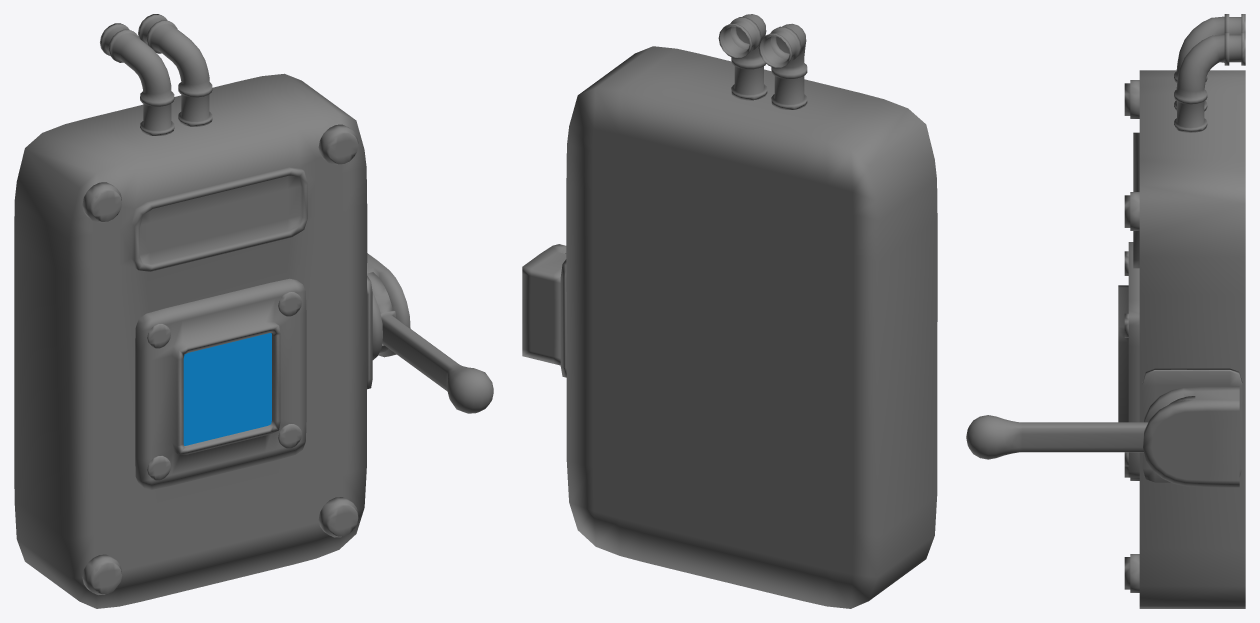
Rendered from food_button.fbx.
The picture shows the model from 3 angles, left to right: view 1: azimuth 30°, elevation 25°; view 2: azimuth 150°, elevation 25°; view 3: azimuth 270°, elevation 25°; orthographic projection. The views are drawn at different scales.
Parts seen in each view (by area): view 1: food_button1_low, food_button2_low, window, food_button6_low, food_button7_low, food_button5_low, food_button4_low, food_button3_low; view 2: food_button1_low, food_button6_low, food_button4_low, food_button3_low; view 3: food_button1_low, food_button4_low, food_button5_low, food_button6_low, food_button2_low, food_button3_low, food_button7_low.
Boxes of the visible parts, <box> form: food_button1_low: <box>14,73,367,608</box>; food_button2_low: <box>135,278,306,489</box>; window: <box>183,333,271,445</box>; food_button6_low: <box>100,14,212,135</box>; food_button7_low: <box>82,124,358,594</box>; food_button5_low: <box>367,272,493,413</box>; food_button4_low: <box>367,253,410,359</box>; food_button3_low: <box>367,275,372,389</box>; food_button1_low: <box>566,46,937,608</box>; food_button6_low: <box>718,14,807,109</box>; food_button4_low: <box>522,244,566,365</box>; food_button3_low: <box>560,259,566,377</box>; food_button1_low: <box>1133,70,1245,608</box>; food_button4_low: <box>1143,386,1239,487</box>; food_button5_low: <box>966,396,1195,459</box>; food_button6_low: <box>1174,14,1245,132</box>; food_button2_low: <box>1118,242,1139,477</box>; food_button3_low: <box>1142,368,1242,482</box>; food_button7_low: <box>1124,80,1139,592</box>.
Size of the model in its own units: 30.27 by 44.71 by 21.94.
